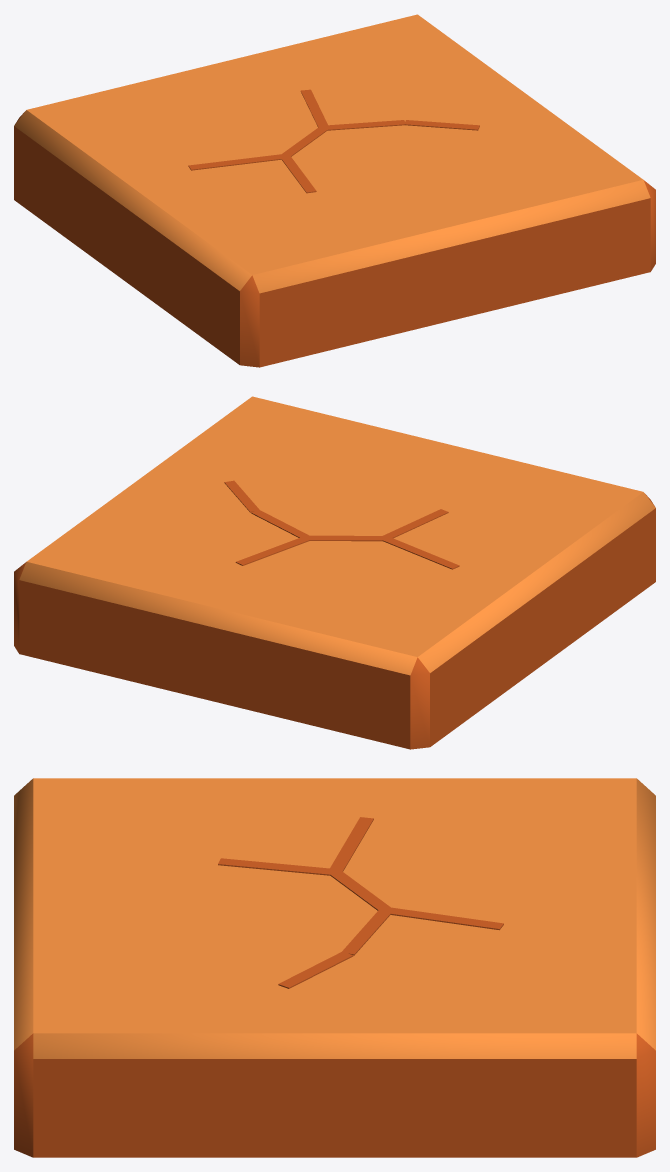
File: sand_tile_cracked.glb
3 renders of one model, top to bottom at view 1: azimuth 30°, elevation 25°; view 2: azimuth 150°, elevation 25°; view 3: azimuth 270°, elevation 25°, orthographic. The views are drawn at different scales.
Visible parts, largest first — view 1: sand_tile_cracked; view 2: sand_tile_cracked; view 3: sand_tile_cracked.
Part boxes in pixels (bbox=[...]): sand_tile_cracked: bbox=[14, 14, 655, 367]; sand_tile_cracked: bbox=[14, 396, 655, 749]; sand_tile_cracked: bbox=[14, 778, 655, 1157].
Size of the model in its own units: 1 by 0.202 by 1.
Materials: 1 (1 with a texture image).
